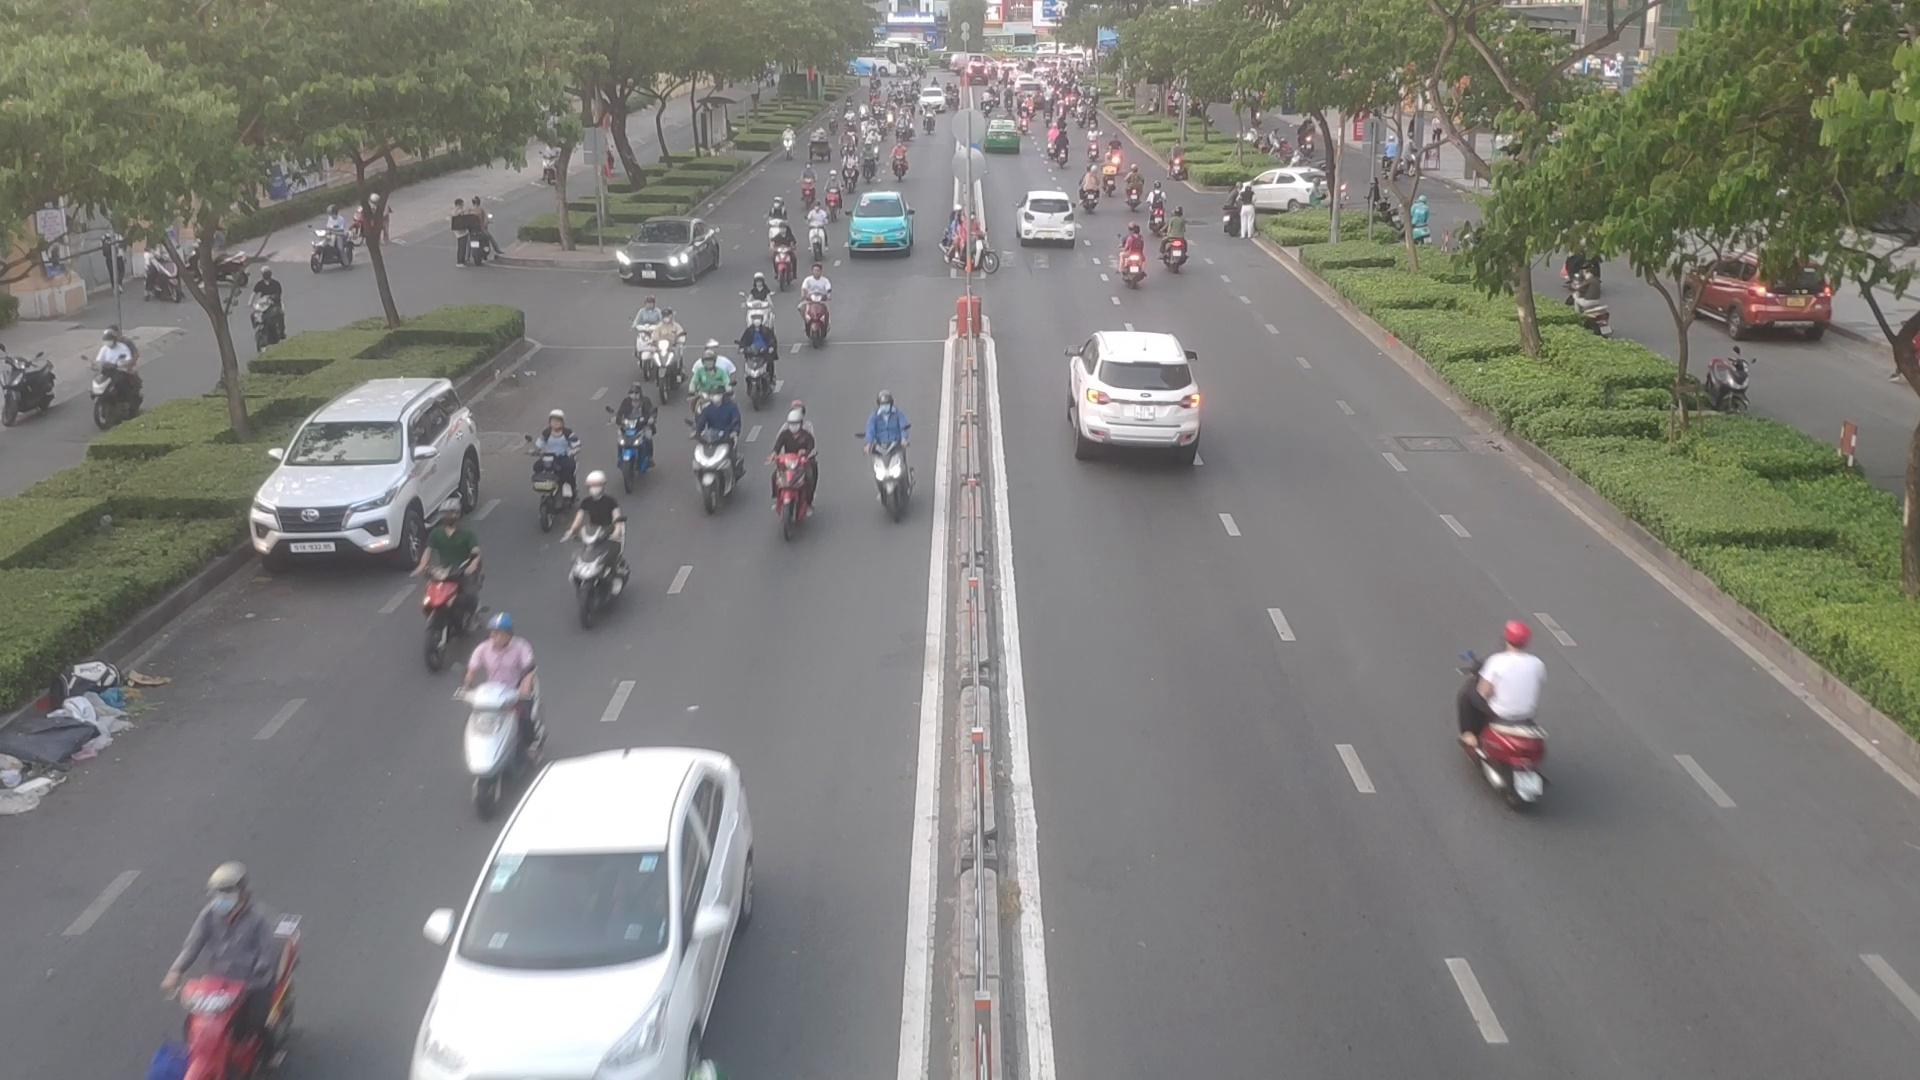car: (406, 746, 752, 1076), (256, 377, 491, 567), (1067, 331, 1204, 454), (620, 219, 728, 287), (843, 191, 911, 261), (1234, 167, 1335, 215), (1018, 190, 1081, 247)
motorbike: (137, 862, 319, 1080), (1458, 611, 1553, 814), (448, 618, 554, 781), (404, 505, 496, 647), (856, 382, 924, 525), (682, 382, 746, 524), (513, 404, 578, 524), (775, 400, 822, 545), (574, 495, 618, 632), (597, 382, 649, 495), (650, 311, 684, 418), (944, 214, 998, 280), (691, 334, 735, 411), (740, 309, 777, 397), (738, 272, 777, 351), (804, 260, 836, 351), (1158, 211, 1195, 278), (633, 295, 661, 369), (767, 190, 796, 248), (1116, 231, 1145, 284), (818, 175, 851, 220), (774, 231, 803, 281), (1083, 171, 1106, 220), (804, 204, 824, 257), (1149, 183, 1168, 236), (796, 165, 816, 212), (1125, 166, 1149, 204)
